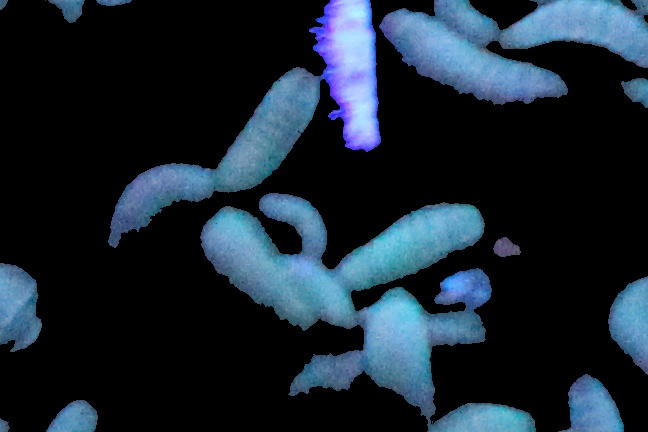larvae: (373, 1, 569, 126), (189, 205, 319, 327), (211, 59, 323, 199), (322, 195, 476, 291), (94, 149, 218, 261), (496, 1, 648, 68), (359, 294, 440, 408), (1, 262, 44, 414), (564, 359, 627, 432)
